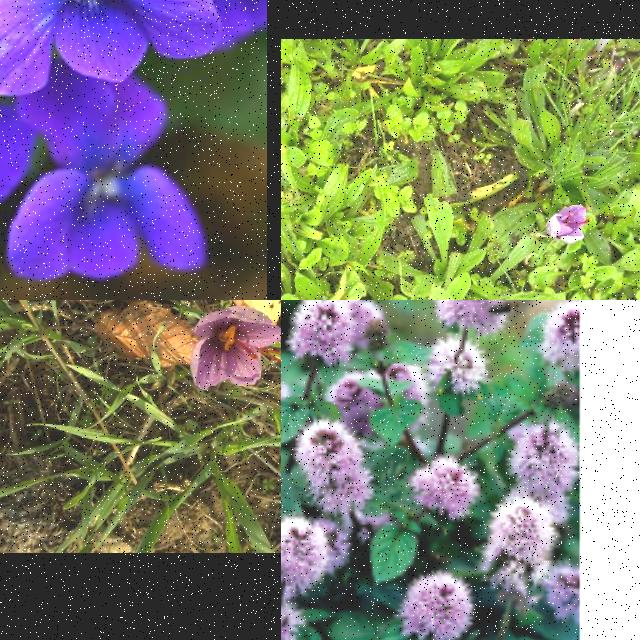flower: (191, 307, 281, 390), (548, 206, 592, 244)
